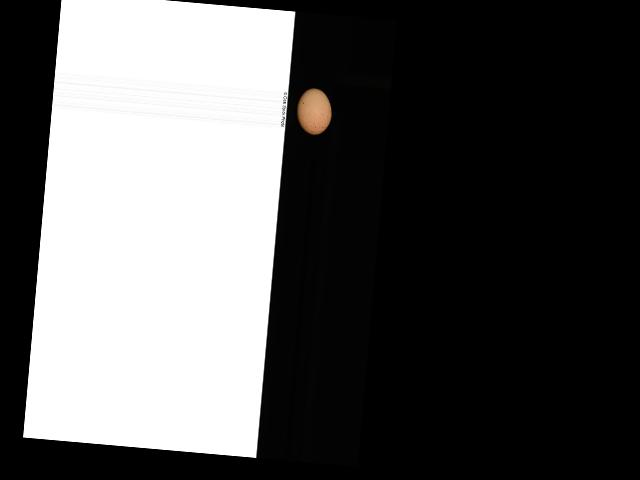egg: (294, 87, 333, 136)
